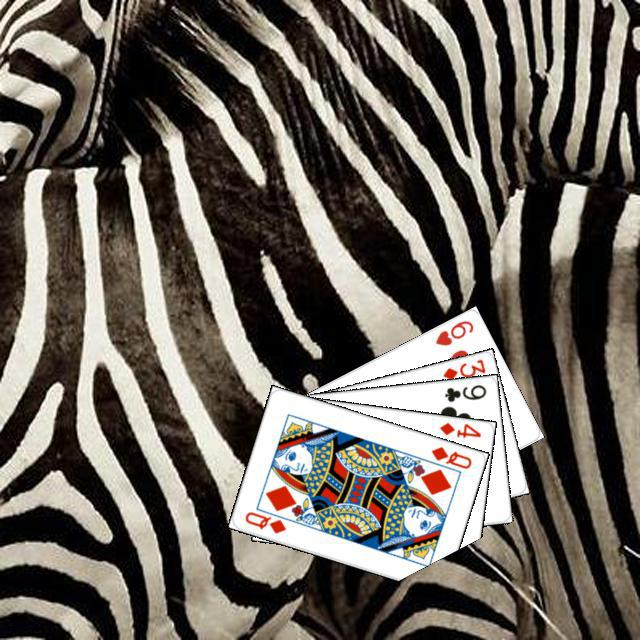3d: (438, 354, 487, 382)
4d: (435, 417, 483, 440)
6h: (430, 315, 475, 348)
9c: (440, 379, 488, 404)
Qd: (240, 506, 288, 535), (426, 442, 473, 471)
